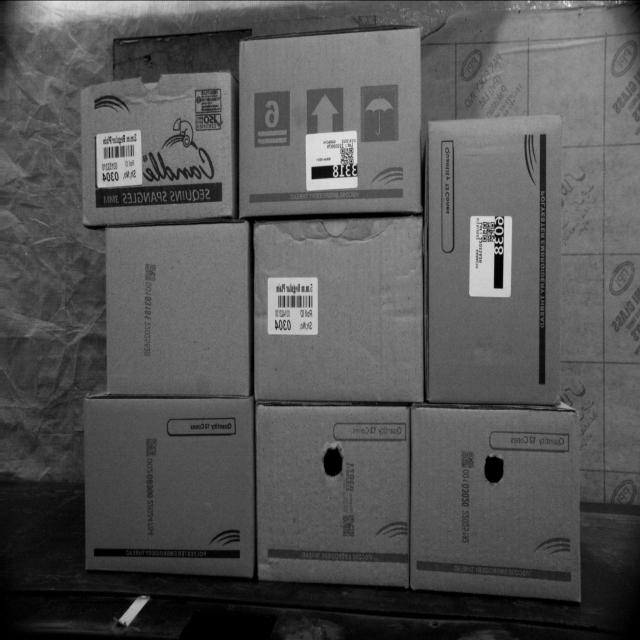cardboxes: (425, 112, 564, 406), (237, 21, 419, 215), (252, 211, 426, 404), (408, 411, 582, 604), (83, 390, 254, 575), (256, 401, 410, 586), (105, 217, 253, 396), (78, 69, 233, 228)
